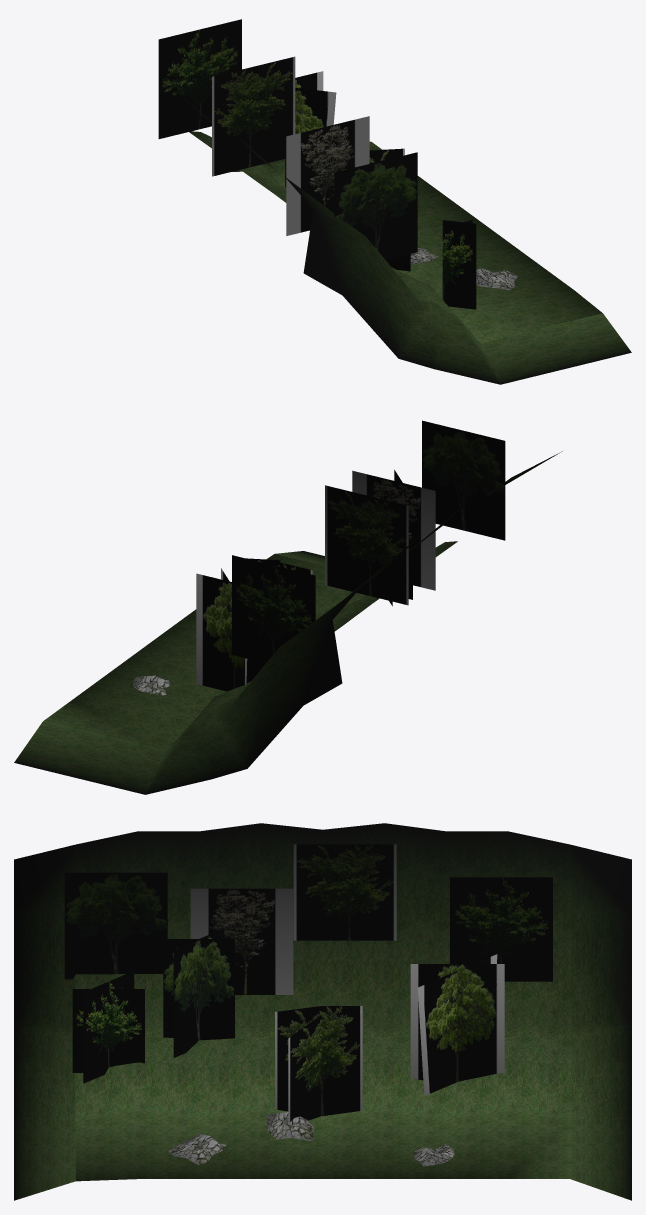
Rendered from KIN_AMB_MNT0_R.glb.
3 renders of one model, top to bottom at view 1: azimuth 30°, elevation 25°; view 2: azimuth 150°, elevation 25°; view 3: azimuth 270°, elevation 25°, orthographic. The views are drawn at different scales.
Visible parts, largest first — view 1: AMB00, bone8, bone1, bone3, bone5, bone6, bone4; view 2: AMB00, bone1, bone3, bone8, bone5, bone2; view 3: AMB00, bone1, bone8, bone4, bone3, bone6, bone5, bone2.
Boxes of the visible parts, <box> form: AMB00: <box>171,86,631,384</box>; bone8: <box>334,152,476,309</box>; bone1: <box>158,19,336,187</box>; bone3: <box>212,56,295,176</box>; bone5: <box>286,116,369,235</box>; bone6: <box>385,254,518,290</box>; bone4: <box>369,148,438,264</box>; AMB00: <box>14,451,562,794</box>; bone1: <box>196,555,315,691</box>; bone3: <box>325,485,408,605</box>; bone8: <box>394,420,505,540</box>; bone5: <box>352,470,435,590</box>; bone2: <box>133,675,170,695</box>; AMB00: <box>14,823,631,1200</box>; bone1: <box>410,877,552,1095</box>; bone8: <box>64,872,167,1083</box>; bone4: <box>266,1006,362,1140</box>; bone3: <box>293,844,396,940</box>; bone6: <box>163,928,234,1164</box>; bone5: <box>190,888,293,994</box>; bone2: <box>413,1144,454,1166</box>.
Bounding box in the file's own units: 81.85 × 53.49 × 125.
Materials: 12 (12 with a texture image).
